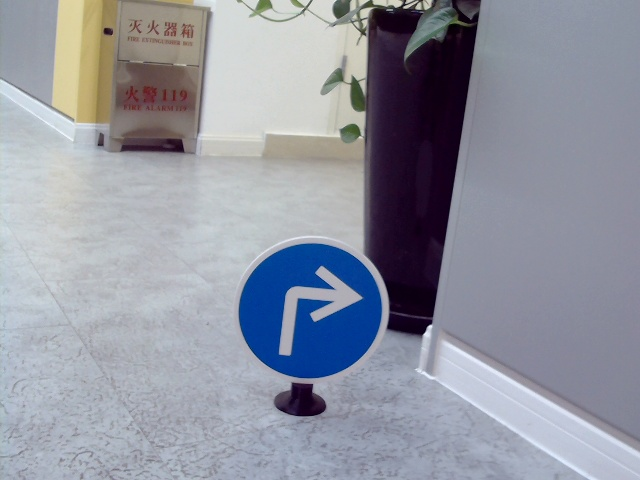turn_right: (278, 268, 358, 354)
